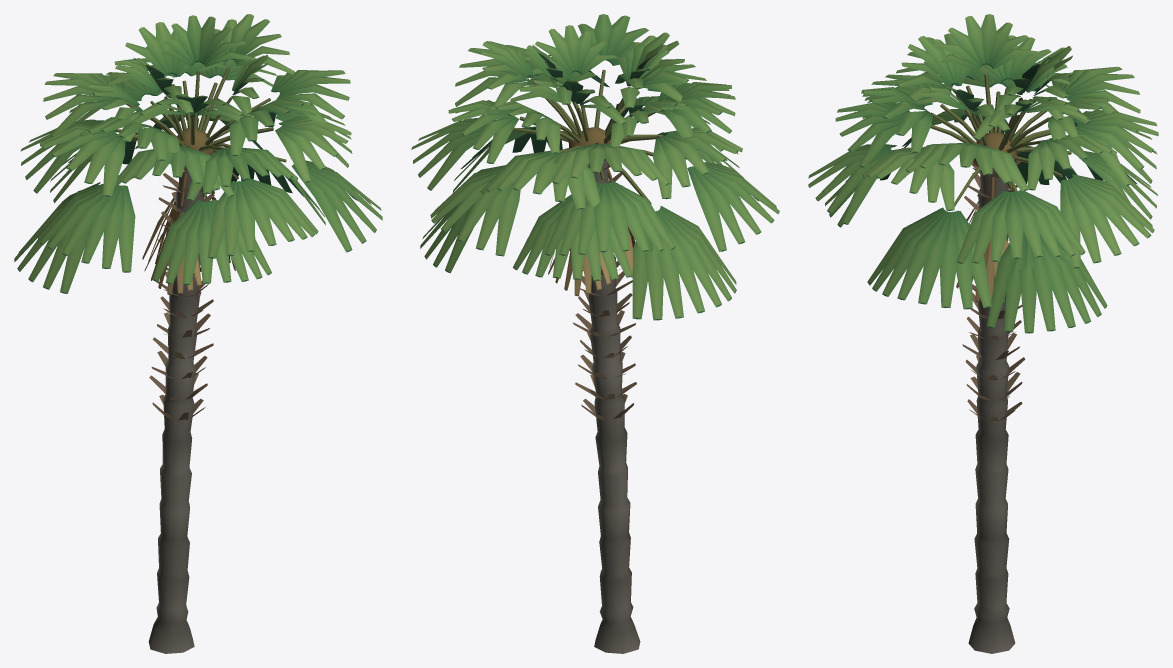
File: PalmSabal.fbx
The picture shows the model from 3 angles, left to right: view 1: azimuth 30°, elevation 25°; view 2: azimuth 150°, elevation 25°; view 3: azimuth 270°, elevation 25°; orthographic projection. The views are drawn at different scales.
Parts seen in each view (by area): view 1: PalmSabal; view 2: PalmSabal; view 3: PalmSabal.
Part boxes in pixels (x1=…): PalmSabal: x1=14, y1=14, x2=382, y2=653; PalmSabal: x1=411, y1=14, x2=779, y2=653; PalmSabal: x1=808, y1=14, x2=1158, y2=653.
Size of the model in its own units: 5 by 8.82 by 4.59.
